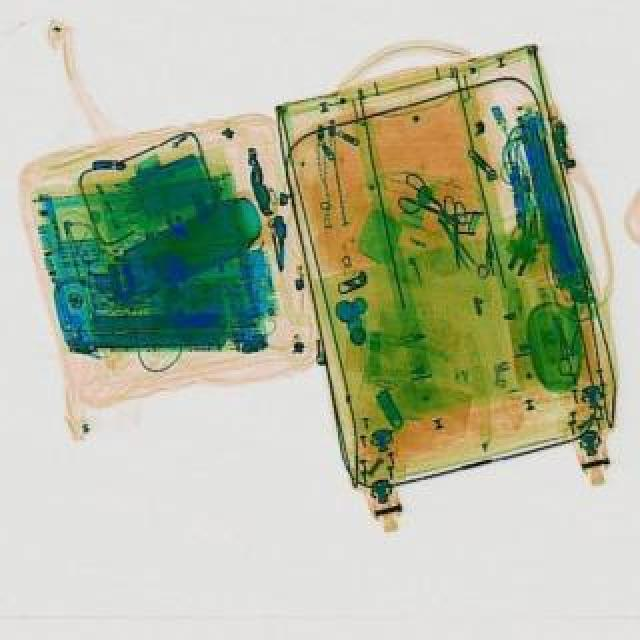pliers: (390, 178, 472, 240), (438, 200, 470, 276)
